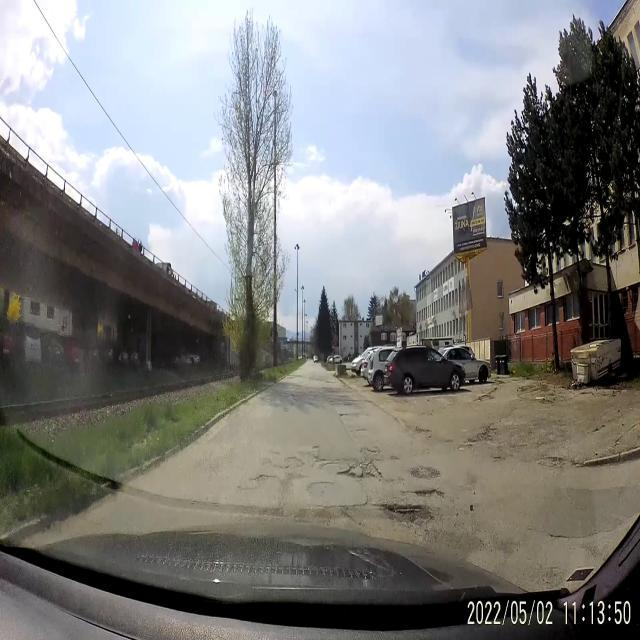Manhole: (308, 474, 343, 506), (408, 458, 442, 486), (316, 454, 342, 476)
Pothole: (381, 492, 432, 536), (456, 424, 501, 456), (344, 457, 379, 485), (535, 450, 575, 470), (412, 484, 446, 506), (469, 385, 499, 409), (283, 450, 306, 478), (252, 471, 276, 490), (408, 426, 440, 438), (336, 408, 358, 424), (357, 444, 382, 458), (308, 441, 324, 452), (290, 389, 300, 404)
